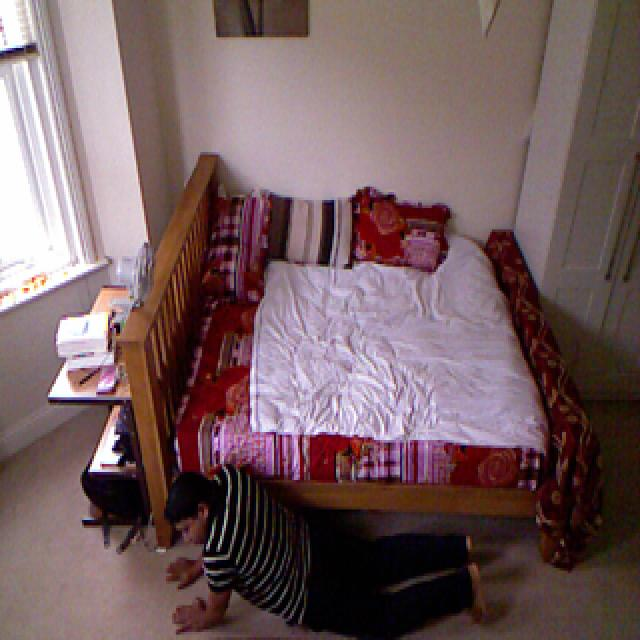lying: (160, 458, 488, 640)
